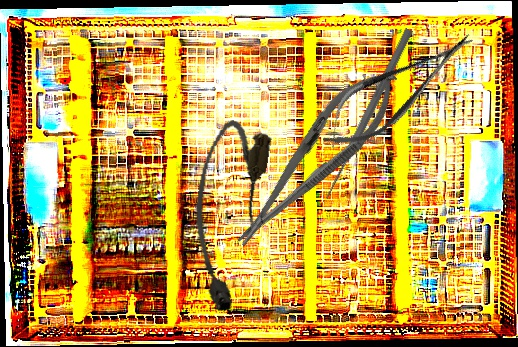Cannula: (178, 116, 274, 317)
Micro Scissor: (307, 16, 489, 164)
Needle Holder: (218, 54, 413, 262)
Pusher: (321, 26, 415, 202)
